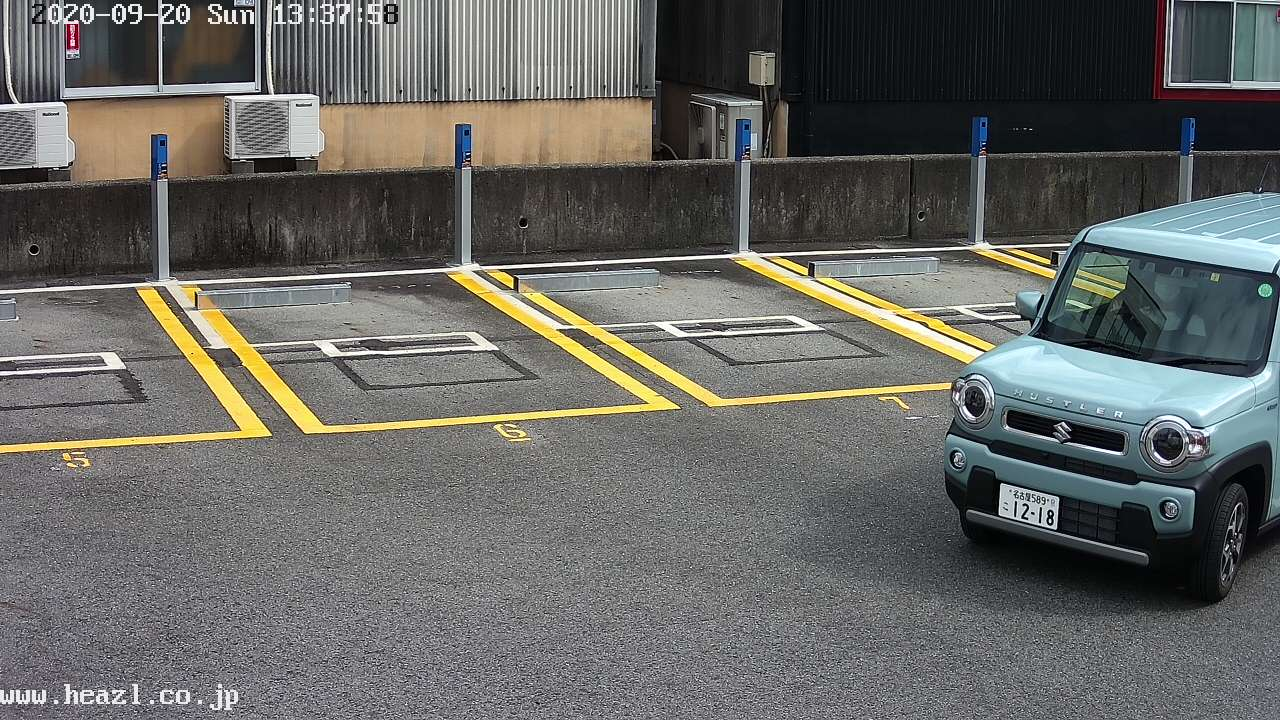number_plate: (998, 482, 1059, 533)
